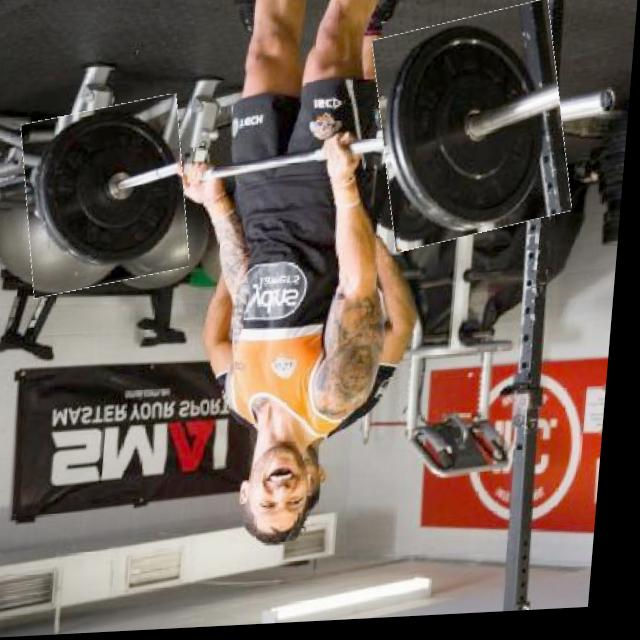barbell: (370, 11, 581, 252), (20, 101, 199, 296)
